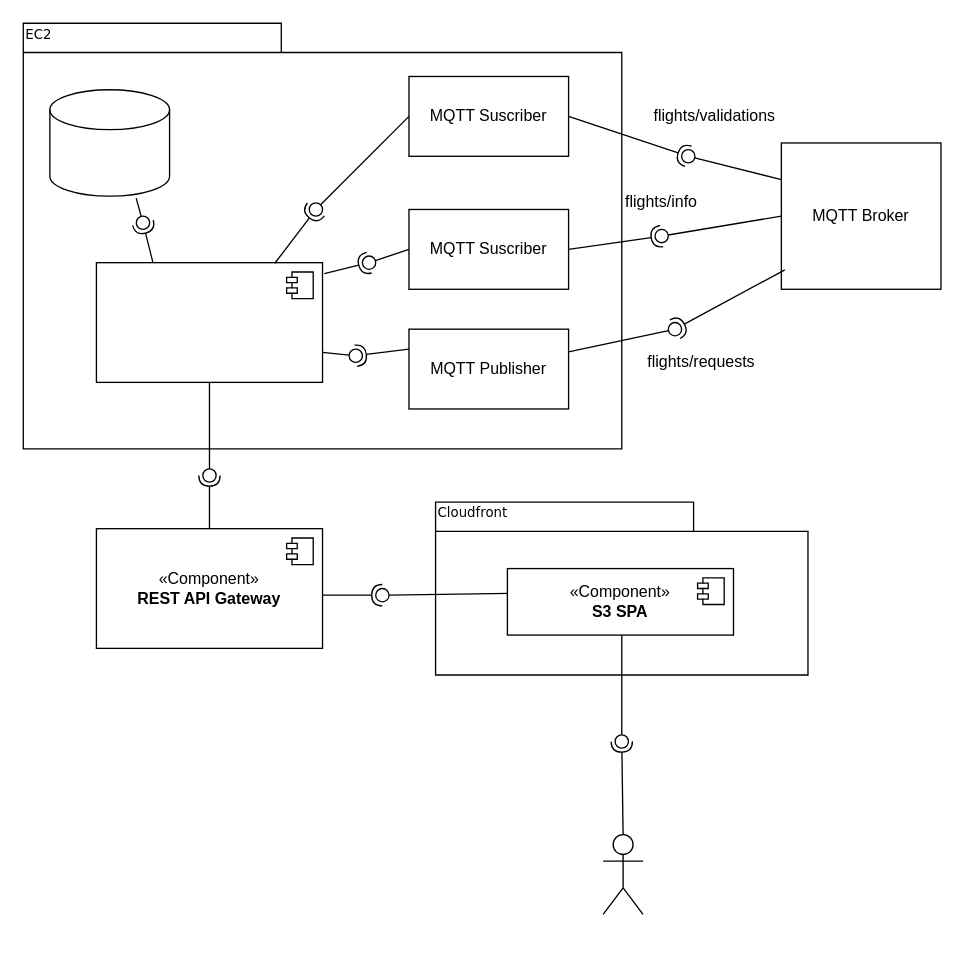
Some shapes in this 964 by 966 pixel diagram are drawn without their labels. Here are the shapes that lost their labels. From the top down, the centre of each, then its label:
At point 109,142: "Flights DB".
At point 209,321: "«Component» API".
At point 622,873: "User".
